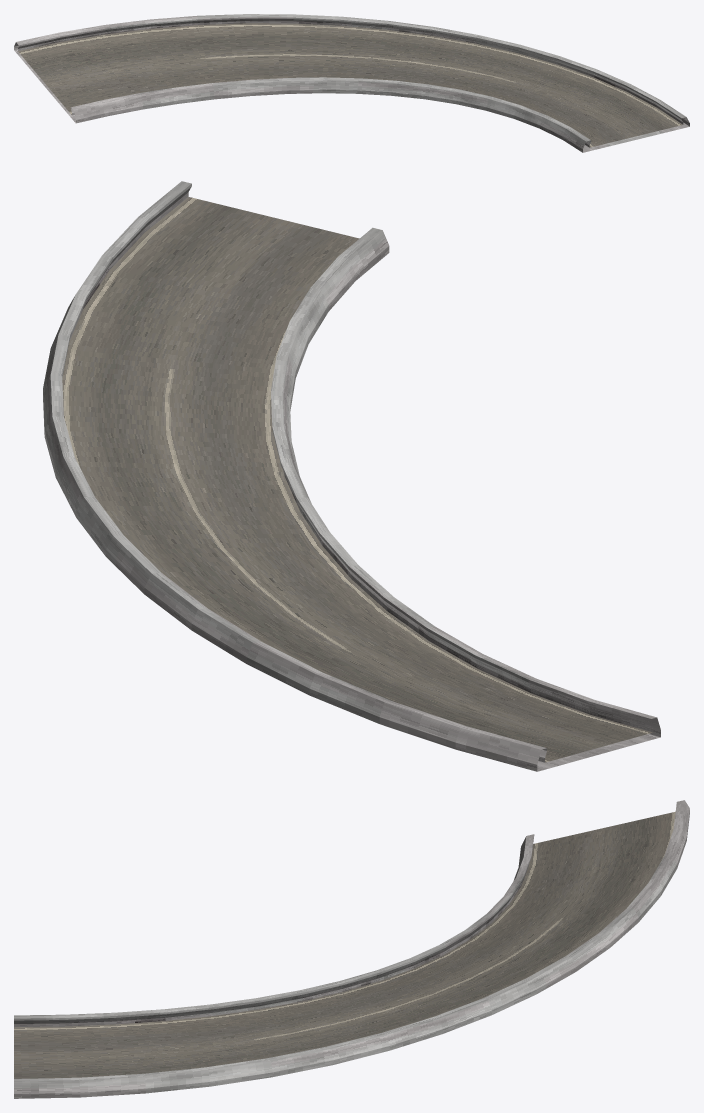
Rendered from turn-left4x4.glb.
3 renders of one model, top to bottom at view 1: azimuth 30°, elevation 25°; view 2: azimuth 150°, elevation 25°; view 3: azimuth 270°, elevation 25°, orthographic. The views are drawn at different scales.
Visible parts, largest first — view 1: road-Turn-Flat-HalfBankedLeft-Down1-Left-Size4; view 2: road-Turn-Flat-HalfBankedLeft-Down1-Left-Size4; view 3: road-Turn-Flat-HalfBankedLeft-Down1-Left-Size4.
Boxes of the visible parts, bbox=[...] form: road-Turn-Flat-HalfBankedLeft-Down1-Left-Size4: bbox=[14, 14, 689, 152]; road-Turn-Flat-HalfBankedLeft-Down1-Left-Size4: bbox=[43, 181, 660, 771]; road-Turn-Flat-HalfBankedLeft-Down1-Left-Size4: bbox=[14, 800, 689, 1098].
Bounding box in the file's own units: 4 × 0.3438 × 4.
Materials: 2 (2 with a texture image).
